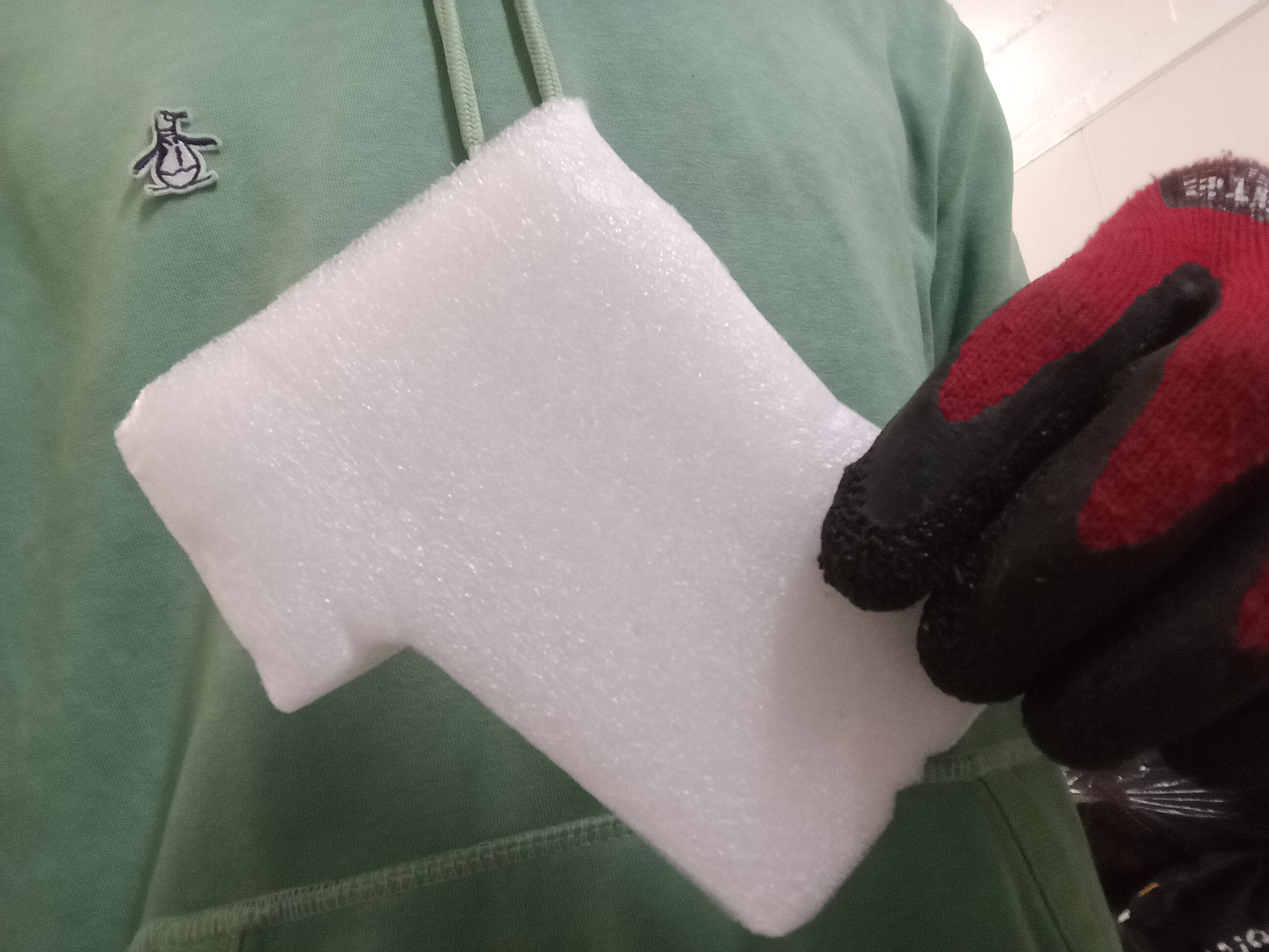Ordinario: (112, 98, 1039, 939)
